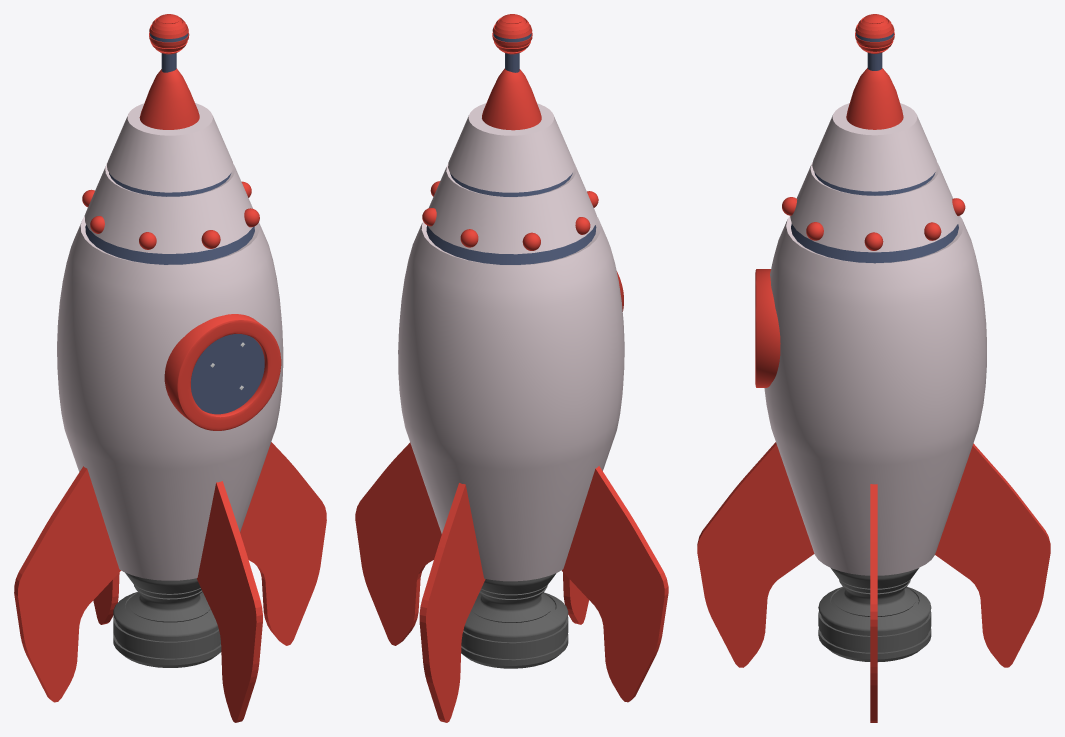
The model's file is rocket_old.glb.
3 views of the same model, side by side, from view 1: azimuth 30°, elevation 25°; view 2: azimuth 150°, elevation 25°; view 3: azimuth 270°, elevation 25° (orthographic).
Parts seen in each view (by area): view 1: Rocket_base, Flipper4, Flipper2, Rocket_glass, Flipper1, Rocket_thrusters, Rocket_nose, Rocket_tip, balls, Flipper3; view 2: Rocket_base, Flipper4, Flipper2, Flipper3, Rocket_thrusters, Rocket_nose, Rocket_tip, balls, Flipper1; view 3: Rocket_base, Flipper1, Flipper3, Rocket_thrusters, Rocket_nose, Rocket_glass, Flipper2, Rocket_tip, balls.
Part boxes in pixels (x1,y1,x2,y2): Rocket_base: (57, 103, 283, 580); Flipper4: (14, 466, 120, 702); Flipper2: (240, 442, 326, 645); Rocket_glass: (164, 314, 281, 430); Flipper1: (196, 481, 262, 722); Rocket_thrusters: (113, 572, 221, 667); Rocket_nose: (139, 68, 199, 129); Rocket_tip: (149, 14, 189, 54); balls: (82, 181, 259, 249); Flipper3: (93, 572, 119, 624); Rocket_base: (398, 103, 624, 581); Flipper4: (562, 466, 668, 702); Flipper2: (355, 442, 441, 645); Flipper3: (419, 483, 485, 722); Rocket_thrusters: (461, 573, 568, 668); Rocket_nose: (482, 68, 541, 130); Rocket_tip: (492, 14, 532, 54); balls: (422, 181, 598, 250); Flipper1: (563, 572, 588, 624); Rocket_base: (764, 103, 986, 575); Flipper1: (697, 442, 814, 667); Flipper3: (935, 443, 1050, 667); Rocket_thrusters: (818, 568, 931, 661); Rocket_nose: (846, 68, 903, 129); Rocket_glass: (755, 269, 780, 387); Flipper2: (870, 484, 877, 722); Rocket_tip: (855, 14, 894, 53); balls: (782, 197, 965, 250).
Size of the model in its own units: 0.3741 by 0.7597 by 0.3741.
